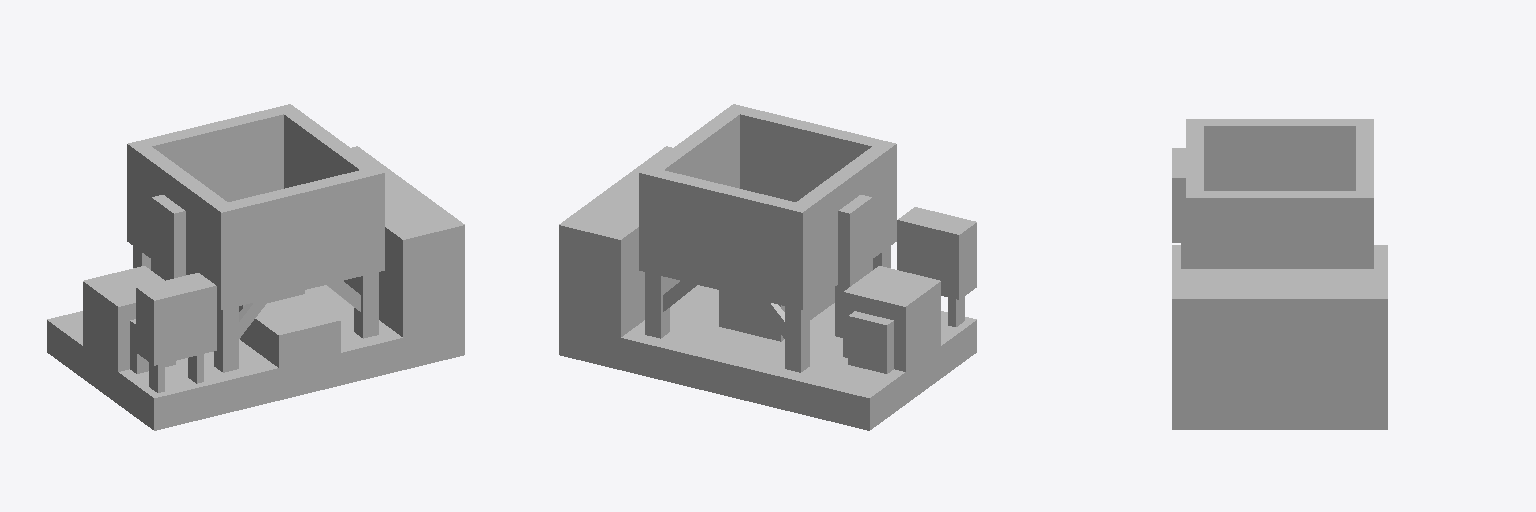
The model's file is crusher_mirrored.obj.
3 renders of one model, left to right at view 1: azimuth 30°, elevation 25°; view 2: azimuth 150°, elevation 25°; view 3: azimuth 270°, elevation 25°, orthographic.
Parts seen in each view (by area): view 1: mirror; view 2: mirror; view 3: mirror.
Boxes of the visible parts, x1,y1,x2,y2 form: mirror: [47, 104, 464, 430]; mirror: [559, 104, 976, 430]; mirror: [1172, 119, 1387, 429].
Bounding box in the file's own units: 5 × 3 × 3.